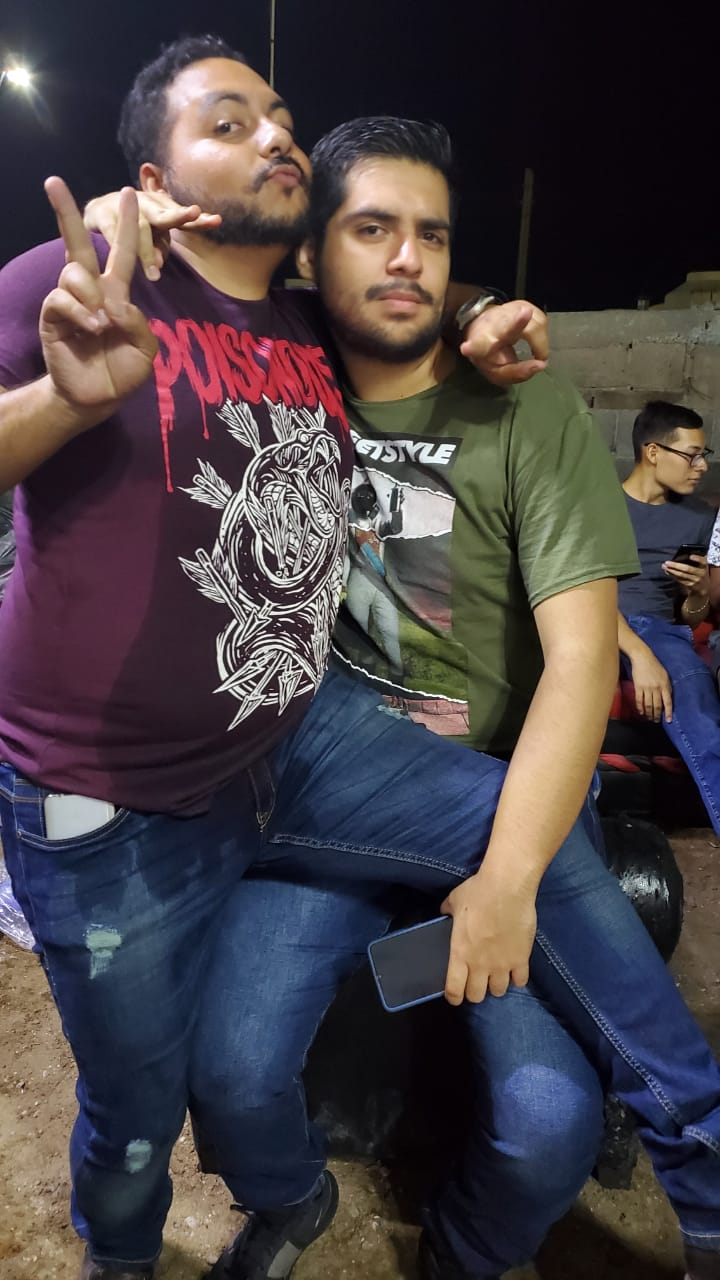Yoshi: (76, 32, 335, 346)
